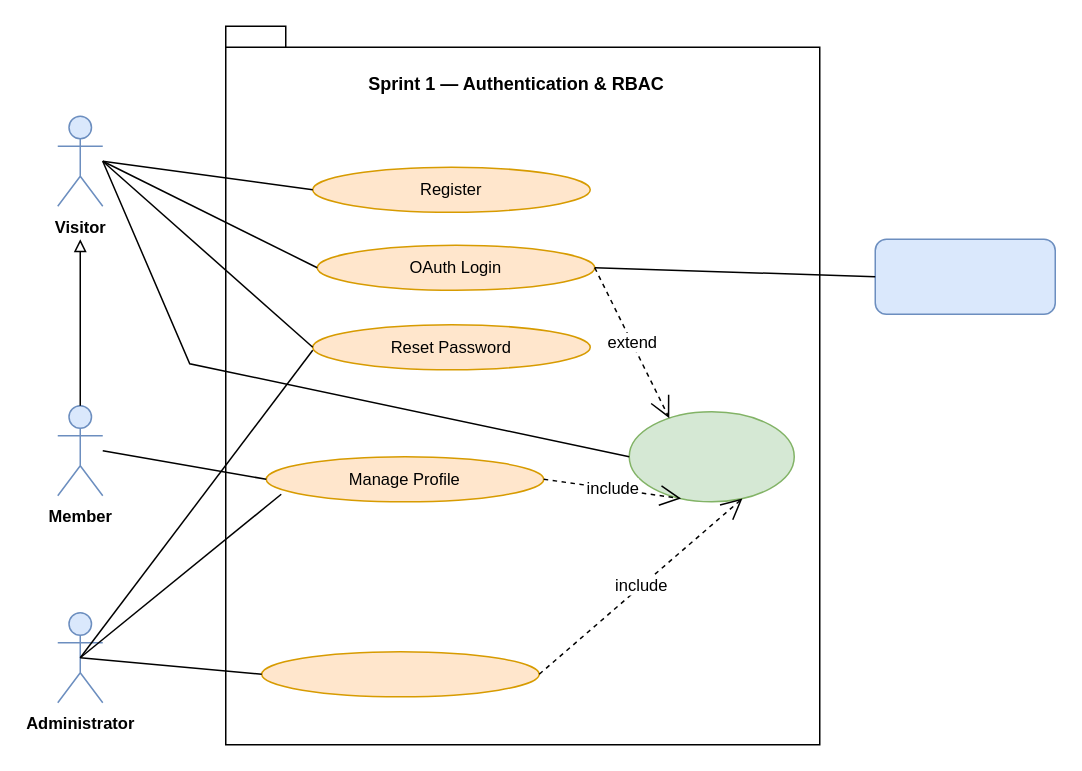
The diagram is 1082 pixels wide and 771 high, and some of its shapes have lost their labels. The centre of each missing label's shape, as x and y in pixels:
"Assign Role" belongs at pixel 399 673.
"Authenticate" belongs at pixel 711 456.
"«system» OAuth Provider" belongs at pixel 964 276.
